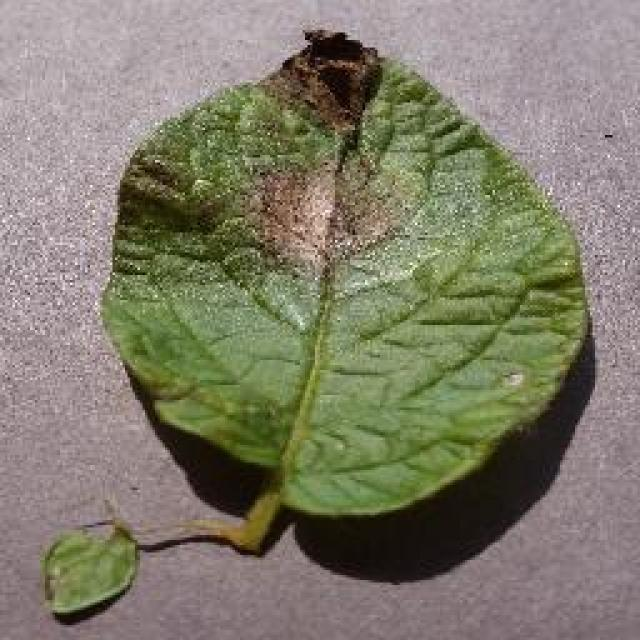late_blight: (95, 25, 593, 530)
